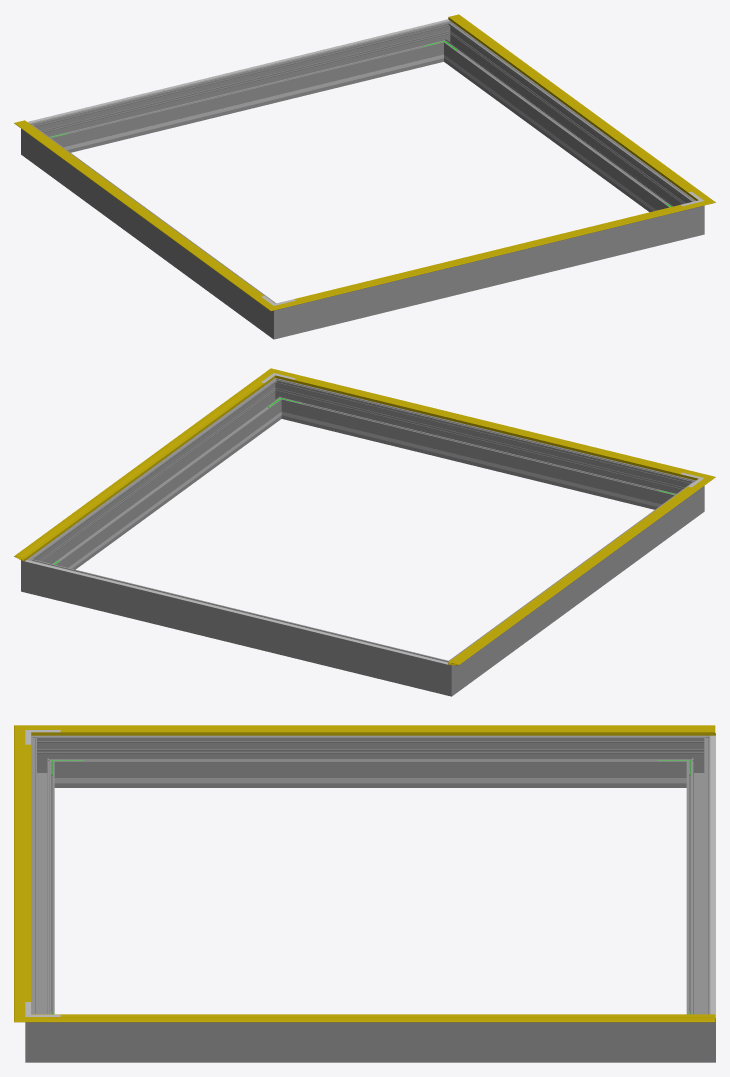
3 views of the same model, one above another, from view 1: azimuth 30°, elevation 25°; view 2: azimuth 150°, elevation 25°; view 3: azimuth 270°, elevation 25° (orthographic). The views are drawn at different scales.
Parts seen in each view (by area): view 1: 3DGeom-276, 3DGeom-298, 3DGeom-297, 3DGeom-268, 3DGeom-145, 3DGeom-141, 3DGeom-147, 3DGeom-244, 3DGeom-220, 3DGeom-158, 3DGeom-270, 3DGeom-154 (+4 smaller); view 2: 3DGeom-298, 3DGeom-276, 3DGeom-297, 3DGeom-268, 3DGeom-141, 3DGeom-145, 3DGeom-147, 3DGeom-239, 3DGeom-278, 3DGeom-220, 3DGeom-158, 3DGeom-152 (+5 smaller); view 3: 3DGeom-268, 3DGeom-297, 3DGeom-276, 3DGeom-147, 3DGeom-298, 3DGeom-145, 3DGeom-141, 3DGeom-232, 3DGeom-152, 3DGeom-154, 3DGeom-220, 3DGeom-158 (+4 smaller).
Part boxes in pixels (box(x1,y1,x2,y2)): 3DGeom-276: box(45, 25, 440, 152); 3DGeom-298: box(296, 211, 682, 333); 3DGeom-297: box(446, 28, 687, 212); 3DGeom-268: box(33, 131, 267, 329); 3DGeom-145: box(448, 14, 702, 197); 3DGeom-141: box(289, 204, 693, 305); 3DGeom-147: box(14, 121, 264, 301); 3DGeom-244: box(71, 60, 422, 148); 3DGeom-220: box(28, 19, 449, 123); 3DGeom-158: box(294, 205, 681, 300); 3DGeom-270: box(261, 297, 295, 339); 3DGeom-154: box(21, 120, 264, 296); 3DGeom-298: box(285, 382, 680, 509); 3DGeom-276: box(43, 563, 433, 691); 3DGeom-297: box(37, 386, 279, 569); 3DGeom-268: box(457, 488, 691, 686); 3DGeom-141: box(286, 373, 693, 478); 3DGeom-145: box(14, 377, 268, 561); 3DGeom-147: box(448, 484, 702, 665); 3DGeom-239: box(303, 417, 653, 505); 3DGeom-278: box(429, 654, 464, 696); 3DGeom-220: box(25, 560, 448, 664); 3DGeom-158: box(294, 378, 681, 473); 3DGeom-152: box(21, 382, 263, 558); 3DGeom-268: box(60, 735, 680, 787); 3DGeom-297: box(60, 1022, 680, 1062); 3DGeom-276: box(686, 748, 710, 1014); 3DGeom-147: box(49, 725, 715, 735); 3DGeom-298: box(31, 748, 54, 1014); 3DGeom-145: box(49, 1014, 715, 1022); 3DGeom-141: box(14, 740, 31, 1006); 3DGeom-232: box(88, 778, 652, 782); 3DGeom-152: box(60, 1014, 715, 1016); 3DGeom-154: box(60, 730, 715, 732); 3DGeom-220: box(710, 735, 715, 1018); 3DGeom-158: box(25, 744, 30, 1001).
Size of the model in its own units: 3.05 by 0.2195 by 3.05.
